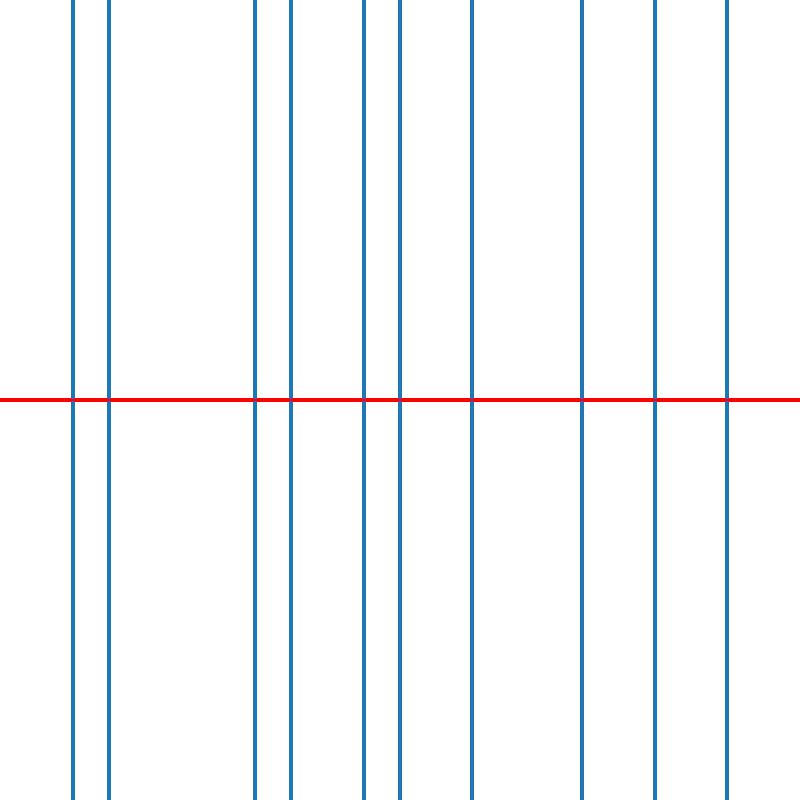root: (250, 396, 258, 404), (650, 396, 658, 404), (396, 396, 403, 404), (69, 396, 76, 404), (469, 396, 476, 404), (578, 396, 585, 404), (360, 396, 367, 404), (723, 396, 730, 404), (105, 396, 112, 404), (287, 396, 294, 404)
